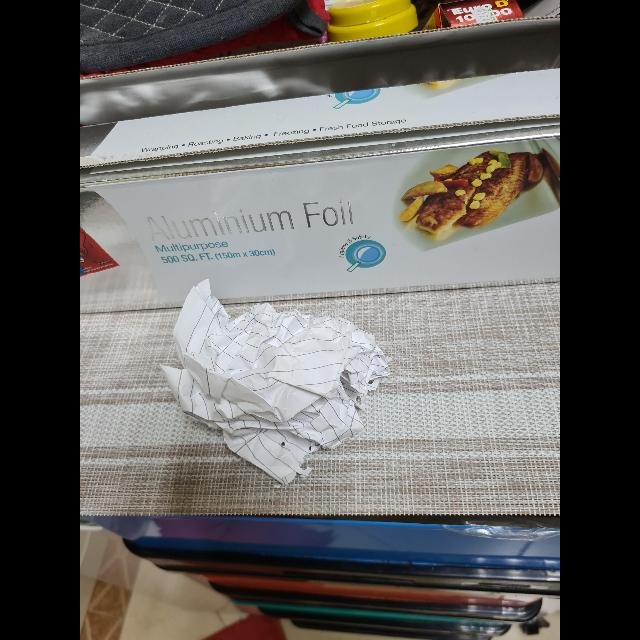trash: (160, 302, 384, 480)
